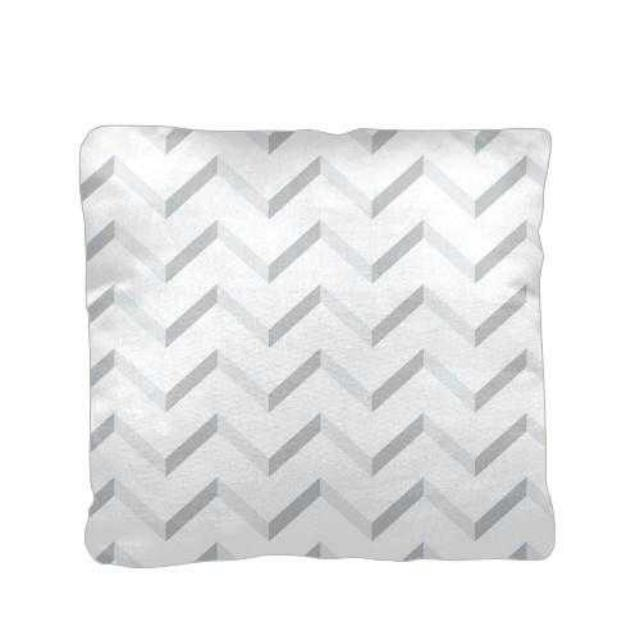pillow: (78, 123, 556, 567)
